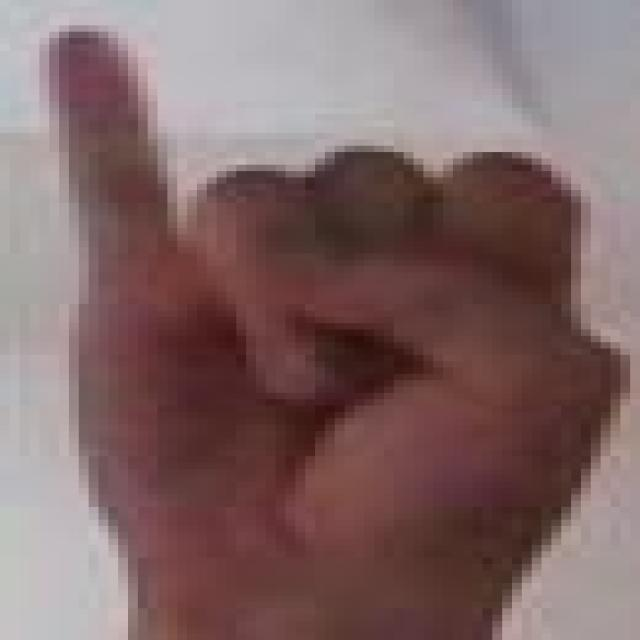I: (1, 5, 640, 640)
